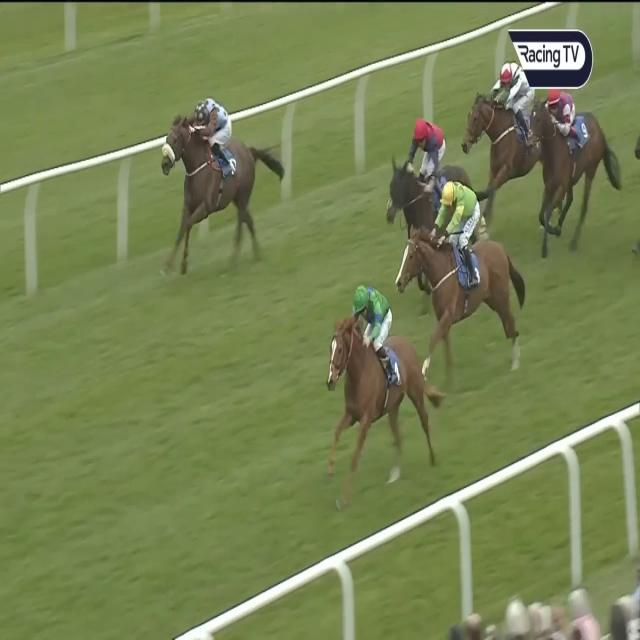horses-racing: (163, 87, 260, 285), (327, 282, 416, 489), (400, 177, 491, 370), (532, 85, 607, 253), (466, 55, 540, 204), (380, 113, 470, 229)
